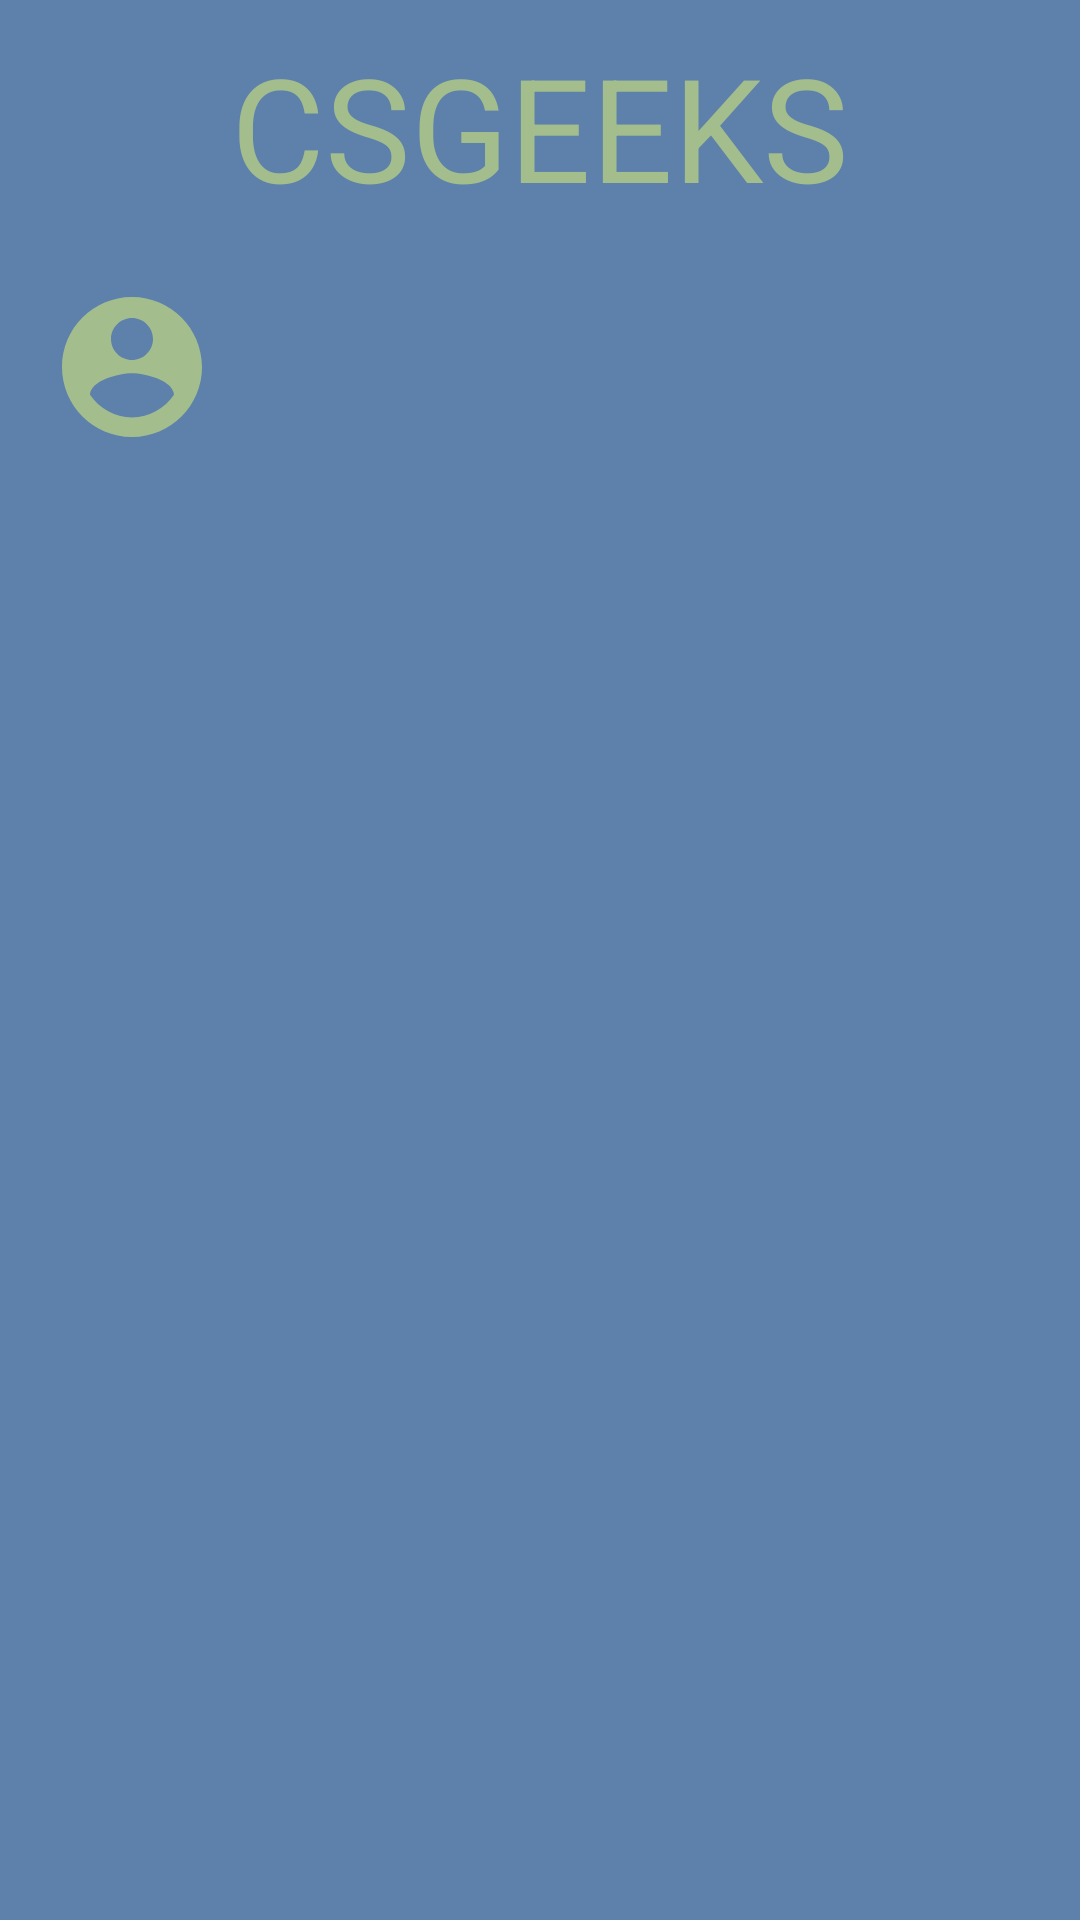

Named icons in this screenshot (1080 × 1920) and their bounding boxes, (x1, y1, x2, y2):
Author Image: (62, 297, 202, 437)
